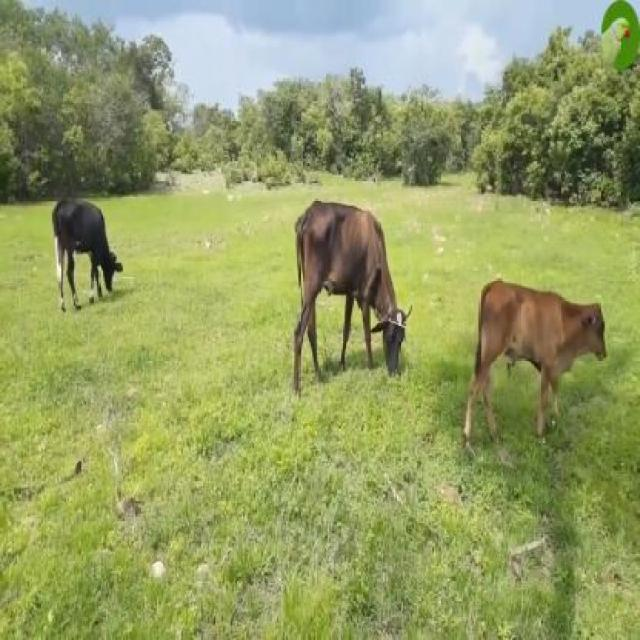Cow: (463, 278, 606, 451), (294, 199, 409, 386), (51, 198, 120, 311)
